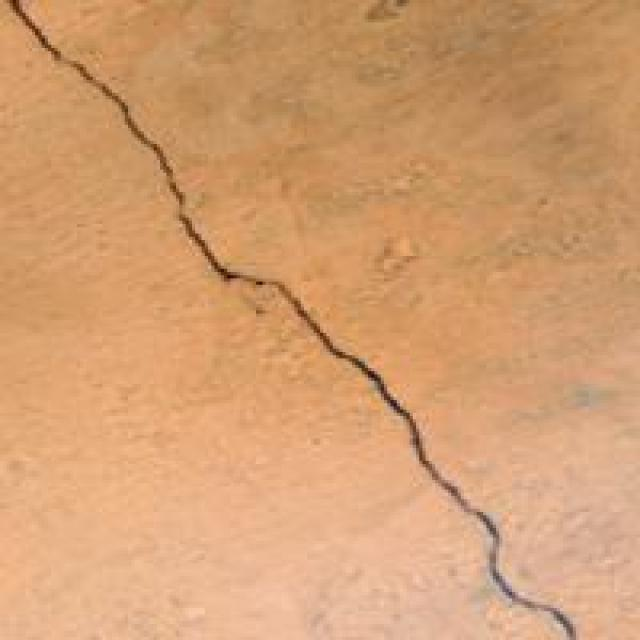Crack: (7, 0, 586, 637)
